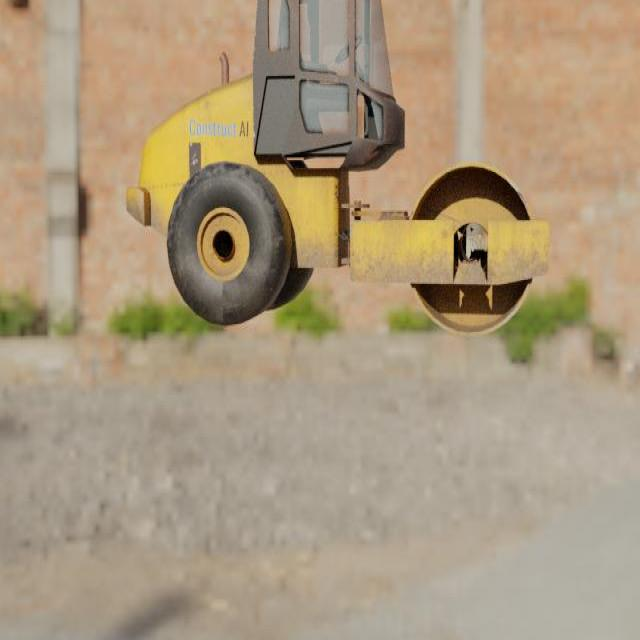Roller: (125, 0, 549, 337)
